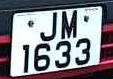1: (18, 42, 33, 75)
3: (52, 40, 74, 70), (72, 38, 92, 67)
6: (31, 41, 53, 74)
J: (36, 11, 61, 42)
M: (60, 9, 80, 42)
